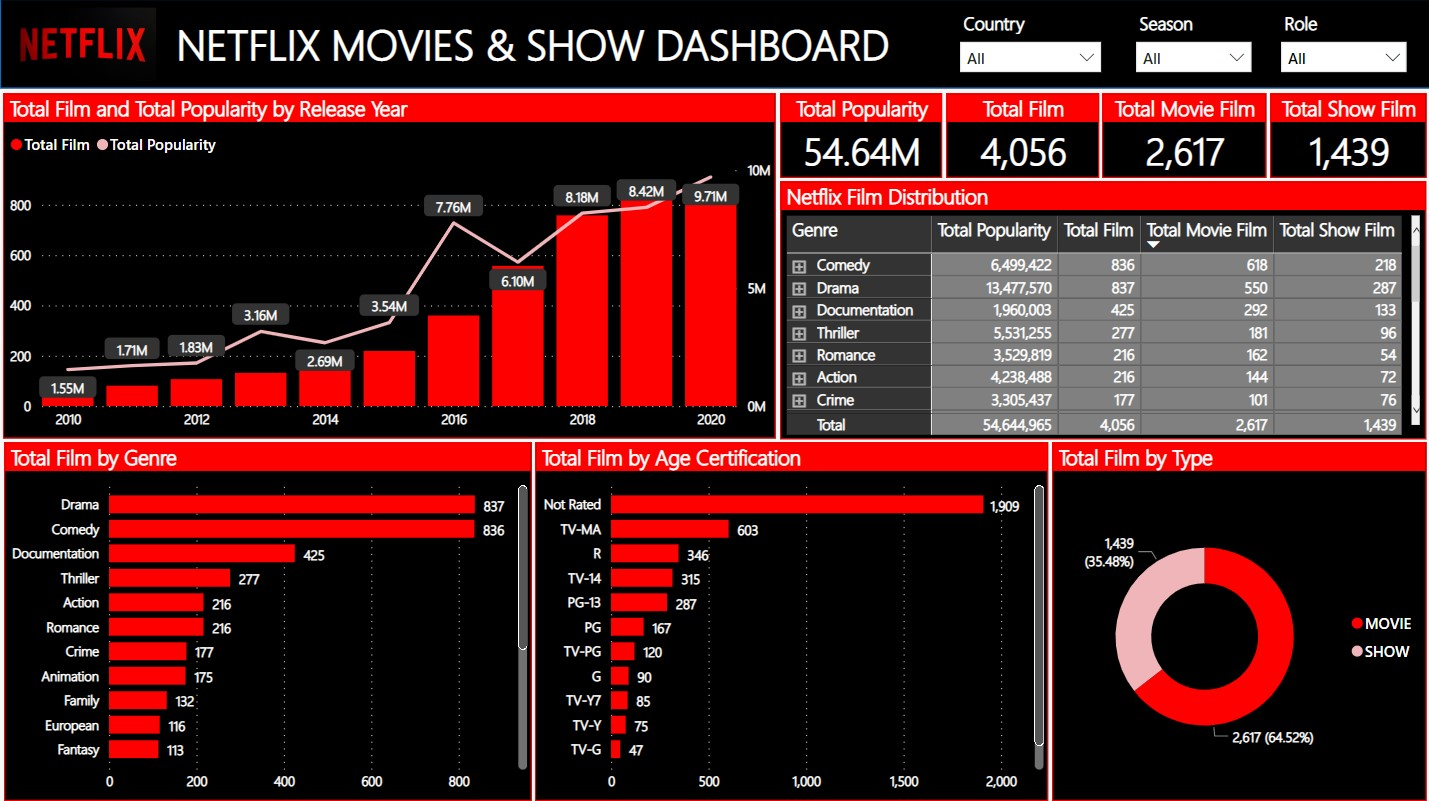

Layout of this report page (visuals, bound fields, positions):
{"tool":"powerbi","page":{"name":"Netflix Movies & Show Dashboard","canvas":[1280,720],"ordinal":0},"visuals":[{"type":"shape","box":[0,0,1279.9,80.5],"z":0},{"type":"image","box":[2.7,2.7,142.2,76],"z":1000},{"type":"textbox","box":[152.9,9.8,683.3,59.9],"z":2000},{"type":"lineClusteredColumnComboChart","fields":{"Category":["Titles.RELEASE_YEAR"],"Y":["Titles.Total Film"],"Y2":["Titles.Total Popularity"]},"box":[2.7,84.1,691.4,309.5],"z":3000},{"type":"slicer","fields":{"Values":["Titles.PRODUCTION_COUNTRY"]},"box":[848.8,5.4,145.8,69.8],"z":4000},{"type":"slicer","fields":{"Values":["Titles.SEASON"]},"box":[1006.2,5.4,122.5,69.8],"z":5000},{"type":"clusteredBarChart","fields":{"Category":["Titles.GENRE"],"Y":["Titles.Total Film"]},"box":[3.6,396.2,472.2,321.1],"z":6000},{"type":"clusteredBarChart","fields":{"Category":["Titles.AGE_CERTIFICATION"],"Y":["Titles.Total Film"]},"box":[478.5,396.2,458.8,321.1],"z":7000},{"type":"donutChart","fields":{"Category":["Titles.TYPE"],"Y":["Titles.Total Film"]},"box":[940.9,396.2,334.5,321.1],"z":8000},{"type":"pivotTable","title":"Netflix Film Distribution","fields":{"Rows":["Titles.GENRE","Titles.TYPE","Titles.AGE_CERTIFICATION"],"Values":["Titles.Avg Popularity","Titles.Total Film","Titles.Total Movie Film","Titles.Total Show Film"]},"box":[697.6,162.8,577.8,230.8],"z":9000},{"type":"card","title":"Total Film","fields":{"Values":["Titles.Total Film"]},"box":[846.1,84.1,136.8,76],"z":10000},{"type":"card","title":"Total Movie Film","fields":{"Values":["Titles.Total Movie Film"]},"box":[985.6,84.1,146.7,76],"z":11000},{"type":"card","title":"Total Show Film","fields":{"Values":["Titles.Total Show Film"]},"box":[1135.9,84.1,139.5,76],"z":12000},{"type":"slicer","fields":{"Values":["Credits.ROLE"]},"box":[1135.9,5.4,132.4,69.8],"z":13000},{"type":"card","title":"Total Popularity","fields":{"Values":["Titles.Total Popularity"]},"box":[697.6,84.1,144.9,76],"z":14000}]}

Visuals, with their boxes in screenshot pixels (x1, y1, x2, y2), scaled from the page's 1280x720 canvas onto the 1429x801 screenshot:
shape: 0/0/1428/90
image: 3/3/162/88
textbox: 171/11/934/78
lineClusteredColumnComboChart - Titles.RELEASE_YEAR x Titles.Total Film: 3/94/775/438
slicer - Titles.PRODUCTION_COUNTRY: 948/6/1110/84
slicer - Titles.SEASON: 1123/6/1260/84
clusteredBarChart - Titles.GENRE x Titles.Total Film: 4/441/531/798
clusteredBarChart - Titles.AGE_CERTIFICATION x Titles.Total Film: 534/441/1046/798
donutChart - Titles.TYPE x Titles.Total Film: 1050/441/1424/798
"Netflix Film Distribution" pivotTable: 779/181/1424/438
"Total Film" card: 945/94/1097/178
"Total Movie Film" card: 1100/94/1264/178
"Total Show Film" card: 1268/94/1424/178
slicer - Credits.ROLE: 1268/6/1416/84
"Total Popularity" card: 779/94/941/178
